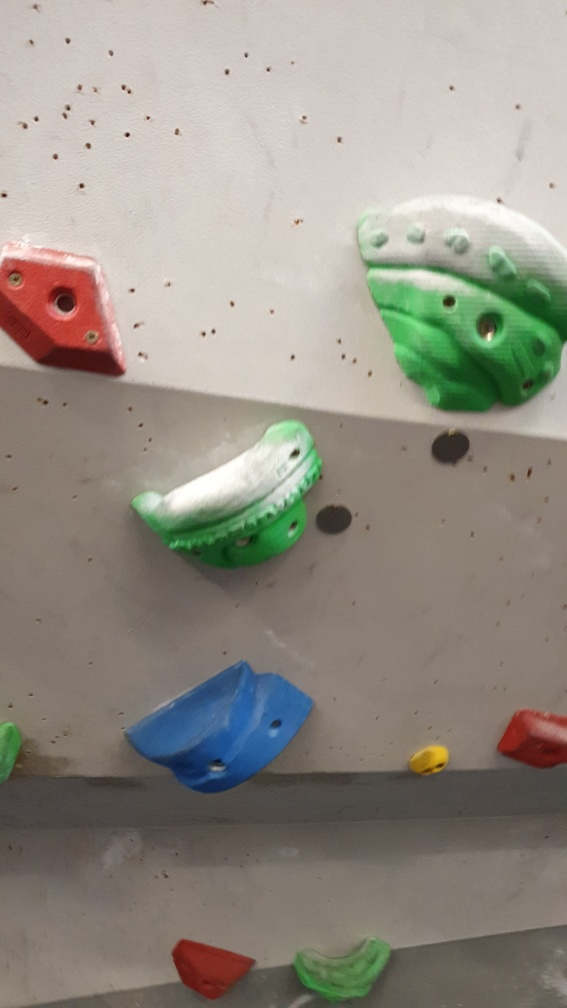Crimp: (1, 243, 128, 384), (494, 699, 567, 774)
Hand Start: (419, 421, 478, 472), (315, 497, 359, 540)
Jug: (350, 184, 563, 417), (131, 415, 323, 572), (290, 937, 397, 1006)
Pinch: (121, 656, 318, 800)
